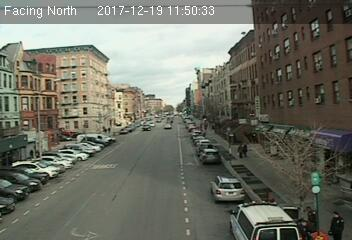car: (210, 175, 247, 203), (199, 149, 220, 164)
pedestrian: (327, 206, 346, 240)
police: (227, 199, 302, 240)
